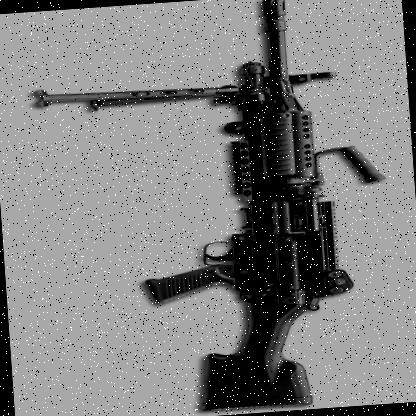rifle: (116, 0, 389, 416)
